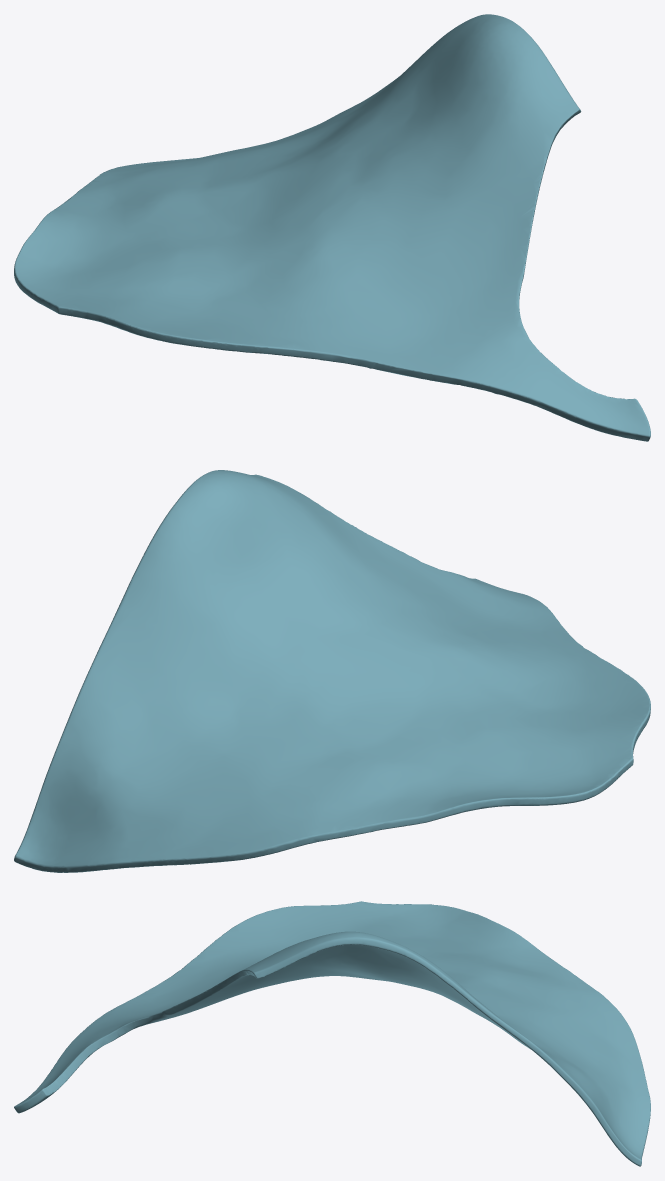
The model's file is tentorium.glb.
The picture shows the model from 3 angles, top to bottom: view 1: azimuth 30°, elevation 25°; view 2: azimuth 150°, elevation 25°; view 3: azimuth 270°, elevation 25°; orthographic projection. The views are drawn at different scales.
Parts seen in each view (by area): view 1: FMA83966; view 2: FMA83966; view 3: FMA83966.
Part boxes in pixels (box(x1,y1,x2,y2)): FMA83966: box(14, 14, 650, 441); FMA83966: box(14, 470, 650, 872); FMA83966: box(14, 901, 650, 1166).
Size of the model in its own units: 0.61 by 0.3412 by 0.8747.
